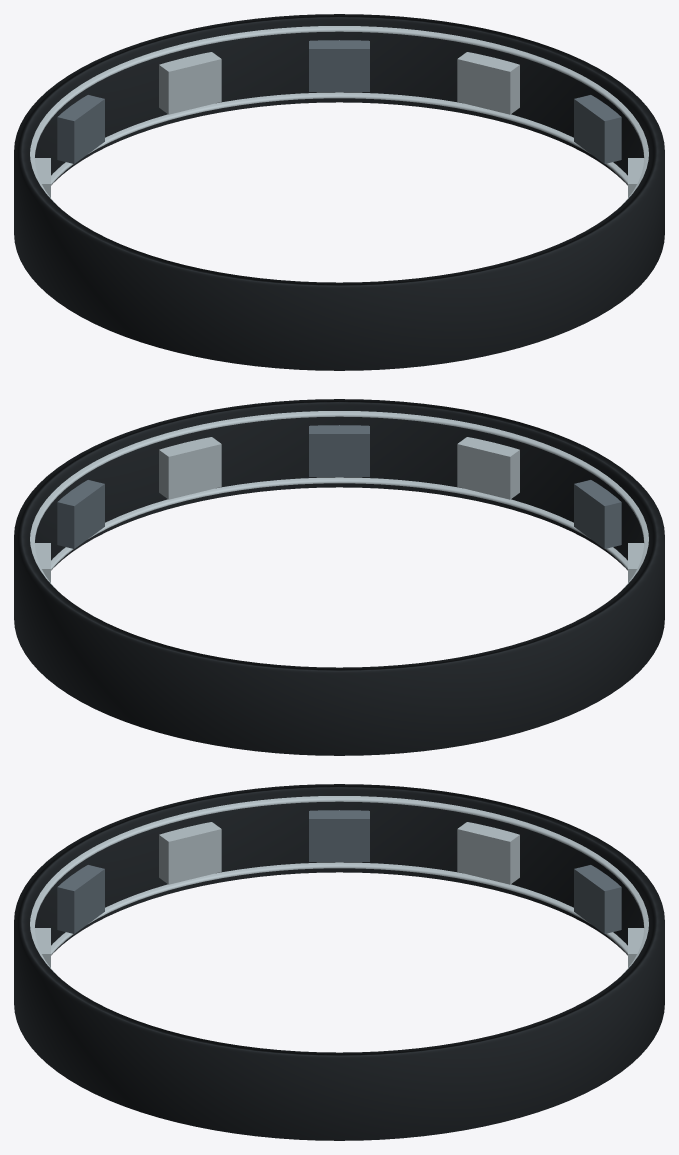
File: saturn_instrument_unit.glb
3 renders of one model, top to bottom at view 1: azimuth 30°, elevation 25°; view 2: azimuth 150°, elevation 25°; view 3: azimuth 270°, elevation 25°, orthographic.
Parts seen in each view (by area): view 1: instrument_unitmesh.mesh_Charcoal_paint, instrument_unitmesh.mesh_Satin_aluminum, instrument_unitmesh.mesh_Machined_steel; view 2: instrument_unitmesh.mesh_Charcoal_paint, instrument_unitmesh.mesh_Satin_aluminum, instrument_unitmesh.mesh_Machined_steel; view 3: instrument_unitmesh.mesh_Charcoal_paint, instrument_unitmesh.mesh_Satin_aluminum, instrument_unitmesh.mesh_Machined_steel.
Part boxes in pixels (box(x1,y1,x2,y2)): instrument_unitmesh.mesh_Charcoal_paint: box(14, 14, 664, 370); instrument_unitmesh.mesh_Satin_aluminum: box(30, 26, 648, 204); instrument_unitmesh.mesh_Machined_steel: box(57, 40, 621, 163); instrument_unitmesh.mesh_Charcoal_paint: box(14, 399, 664, 755); instrument_unitmesh.mesh_Satin_aluminum: box(30, 411, 648, 589); instrument_unitmesh.mesh_Machined_steel: box(57, 425, 621, 548); instrument_unitmesh.mesh_Charcoal_paint: box(14, 784, 664, 1140); instrument_unitmesh.mesh_Satin_aluminum: box(30, 796, 648, 974); instrument_unitmesh.mesh_Machined_steel: box(57, 810, 621, 933).
Size of the model in its own units: 6.6 by 0.9144 by 6.6.
